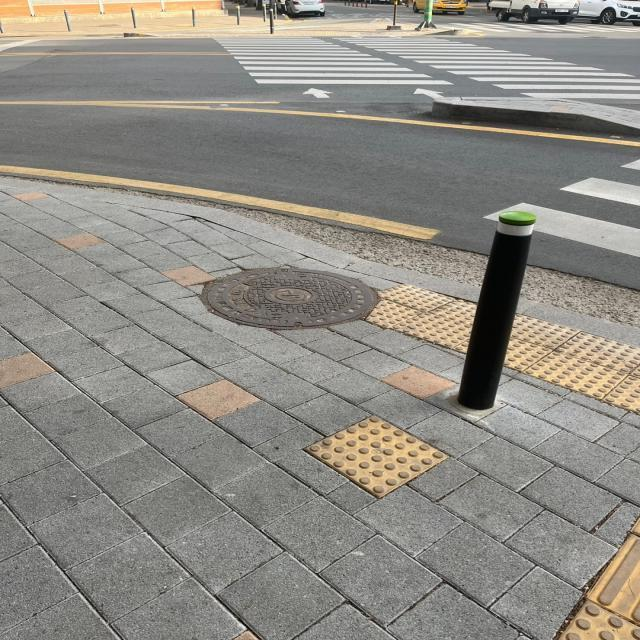Sewer Cover: (182, 247, 396, 343)
